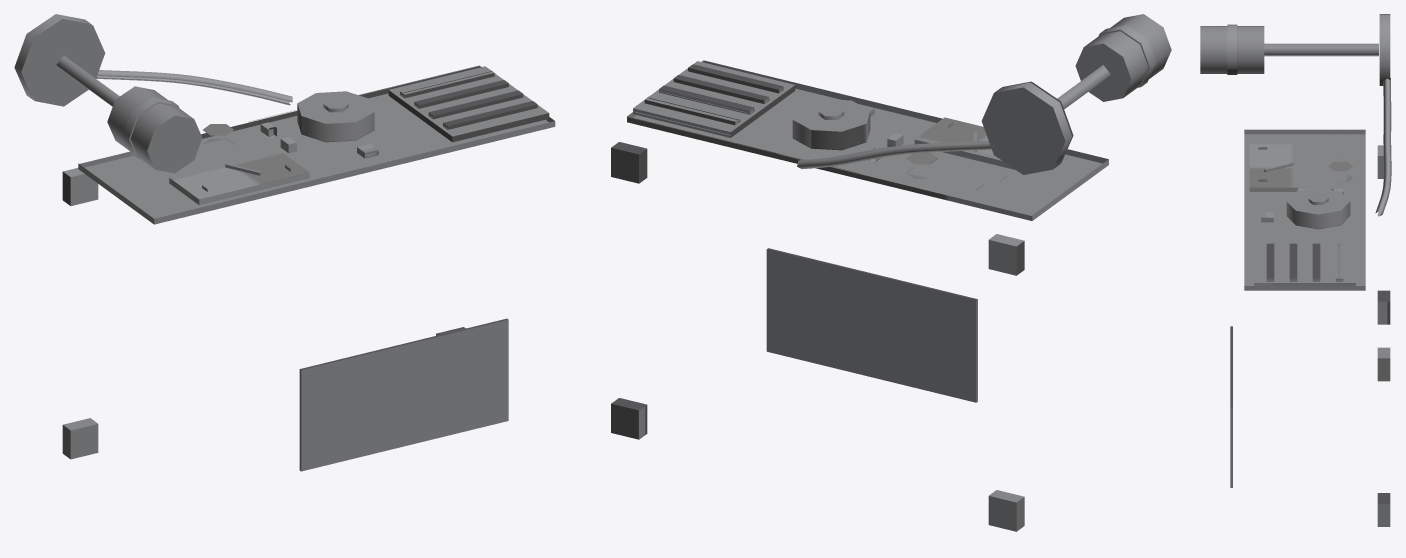
The picture shows the model from 3 angles, left to right: view 1: azimuth 30°, elevation 25°; view 2: azimuth 150°, elevation 25°; view 3: azimuth 270°, elevation 25°; orthographic projection. The views are drawn at different scales.
Bounding box in the file's own units: 0.67 × 0.63 × 0.2998.
